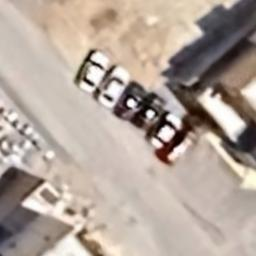SUV: (150, 113, 185, 150)
sedan: (69, 49, 111, 92), (95, 65, 128, 107), (128, 90, 162, 128), (110, 83, 144, 118)
